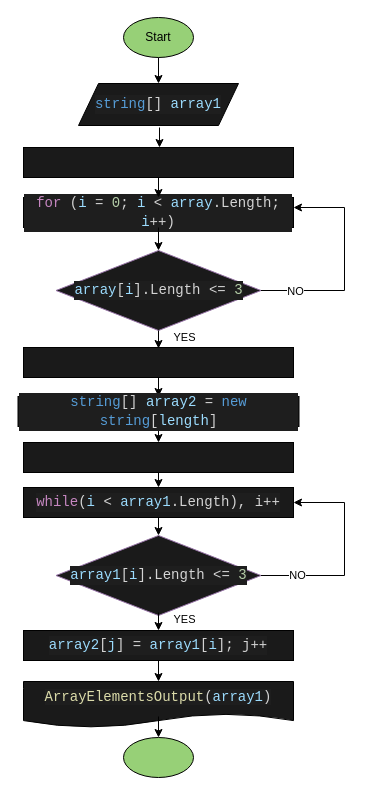
Some shapes in this 370 by 795 pixel diagram are drawn without their labels. Here are the shapes that lost their labels. From the top down, the centre of each, then its label:
the point at 158,162: ArrayElementsCountLessThanThree
the point at 158,362: length ++
the point at 158,457: ArrayElementsWriteOut
the point at 158,757: Stop
